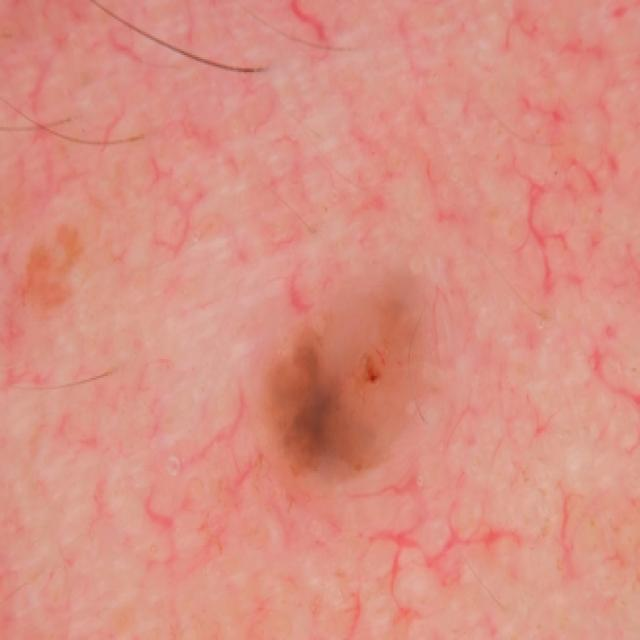Carcinoma: (238, 246, 500, 550)
